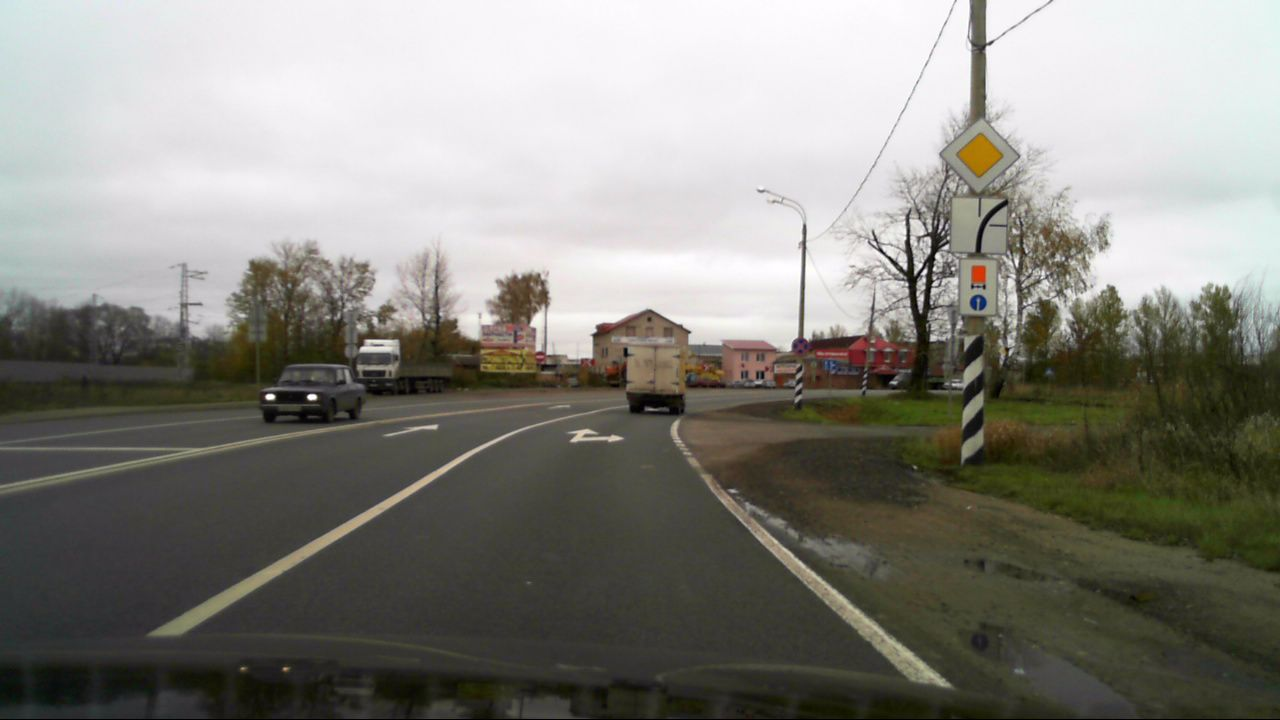No Parking: (791, 337, 809, 355)
